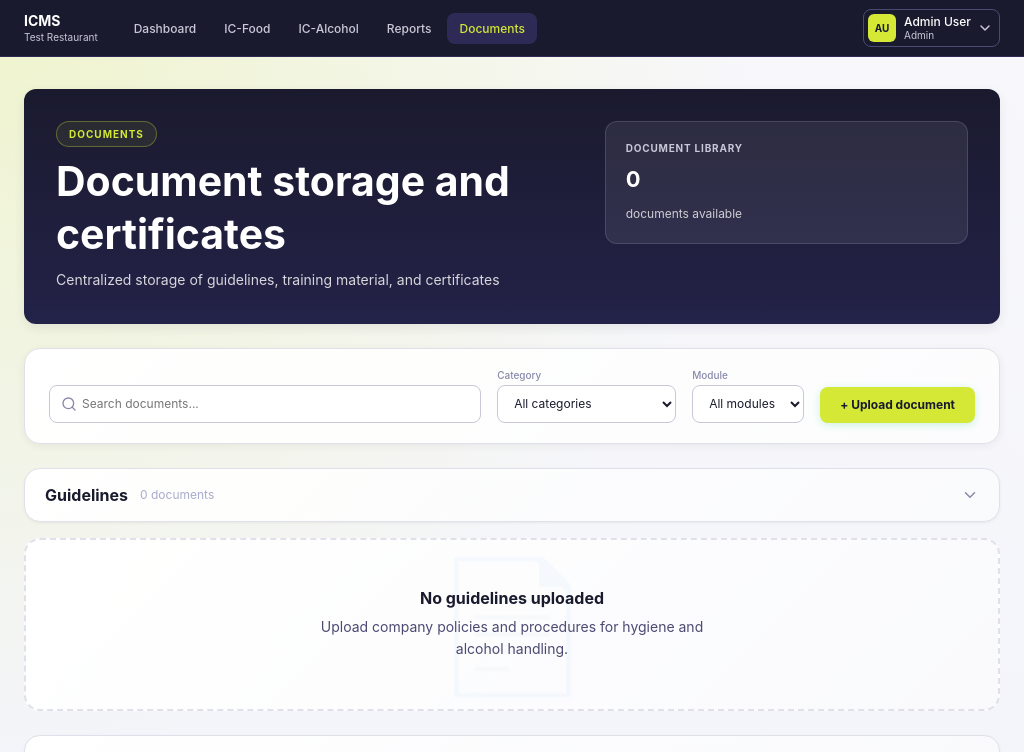
Test: Documents Page › as admin › opens upload modal when upload button is clicked
Click the button "+ Upload document" at {"x": 898, "y": 405}, box x1=820 y1=387 x2=975 y2=423
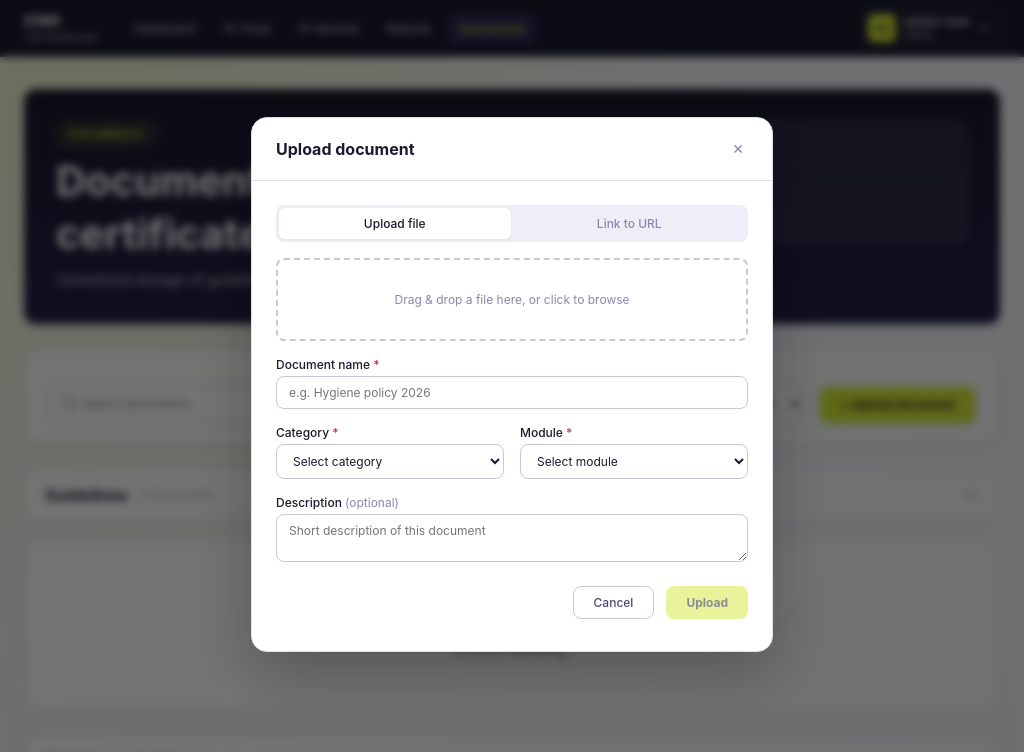
Expected: the dialog is shown, x1=251 y1=117 x2=773 y2=652
